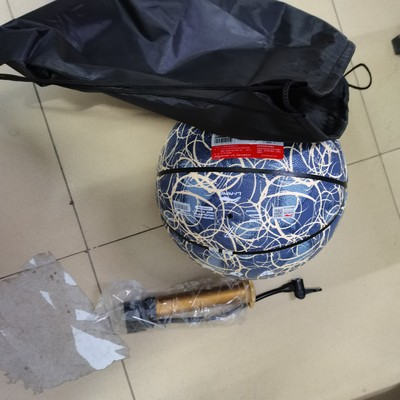ball: (153, 89, 350, 282)
